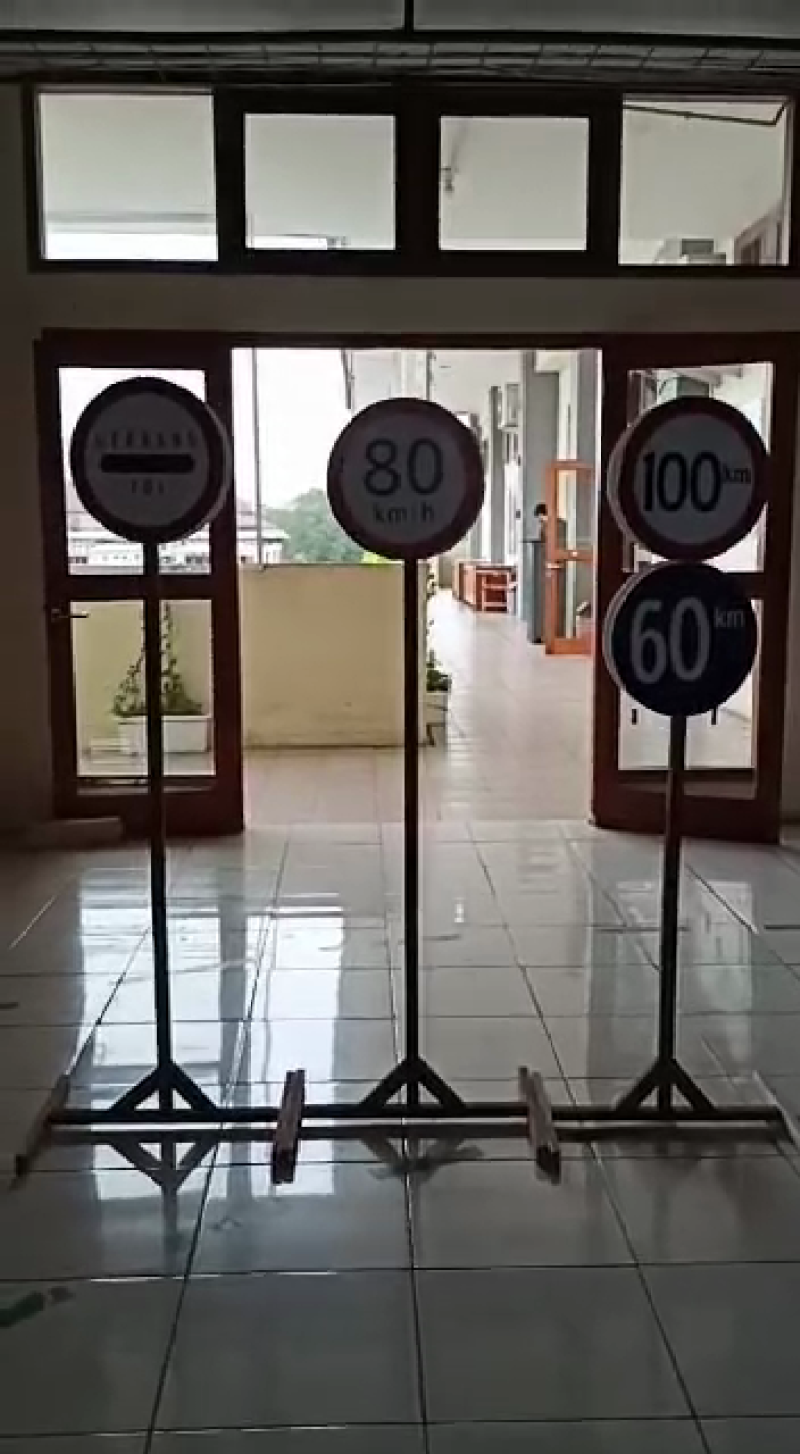batas maksimal 100kmperjam minimal 60kmperjam: (596, 396, 779, 722)
batas maksimal 80kmperjam: (322, 396, 487, 564)
gerbang tol: (70, 364, 248, 557)
